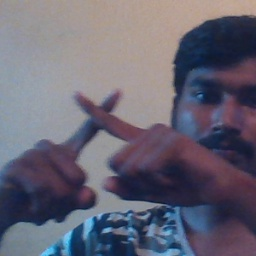X: (38, 79, 158, 181)
